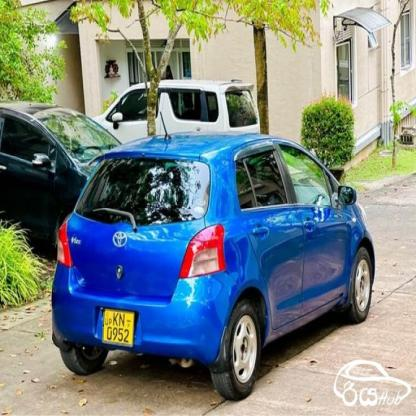car back: (50, 127, 377, 403)
number plate: (101, 304, 139, 348)
